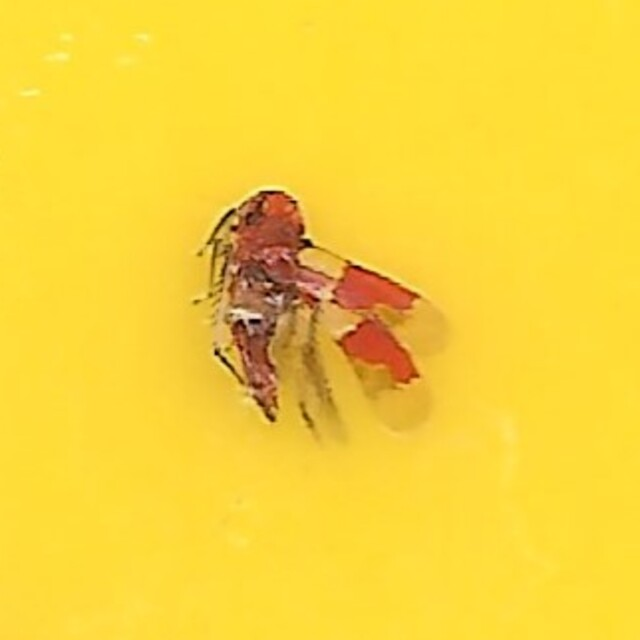Hemiptera: (199, 191, 441, 449)
